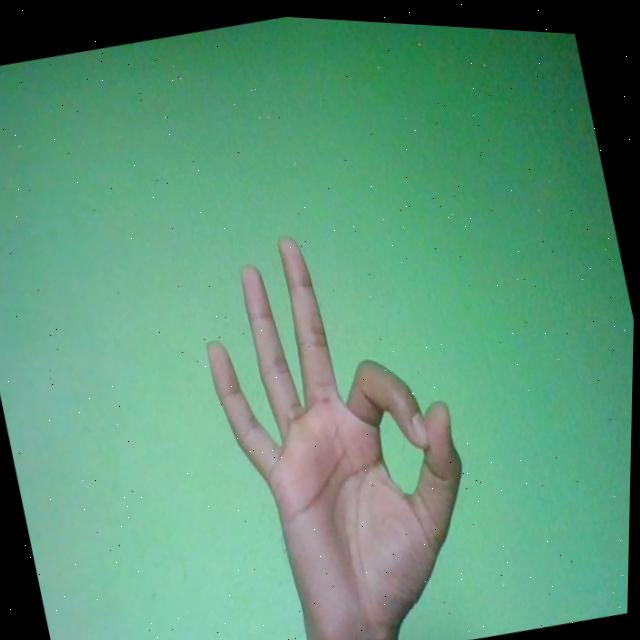Ok: (179, 195, 507, 640)
